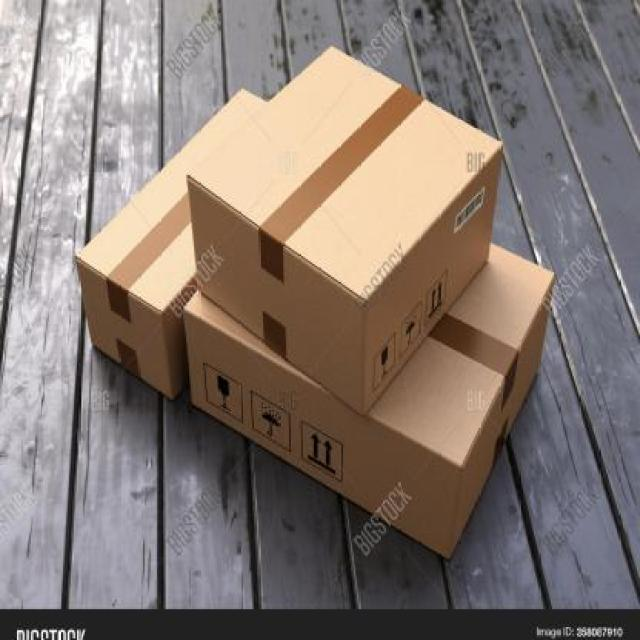box: (66, 79, 559, 571), (181, 39, 514, 426)
